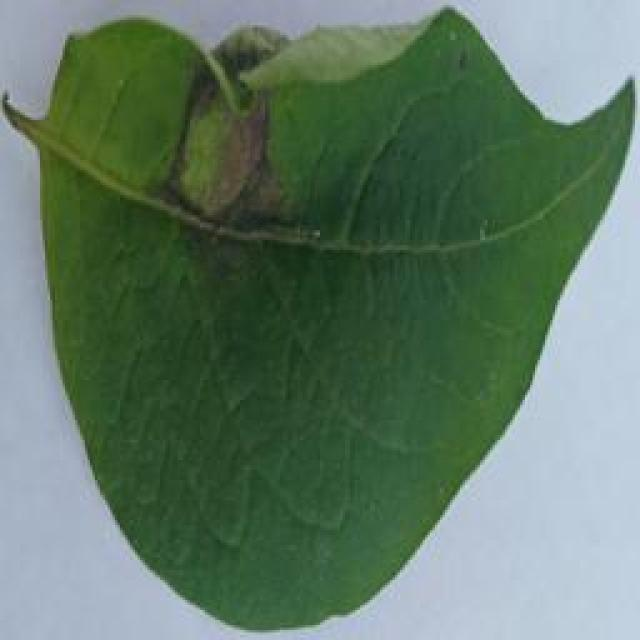Potato_Late_Blight: (5, 9, 627, 635)
